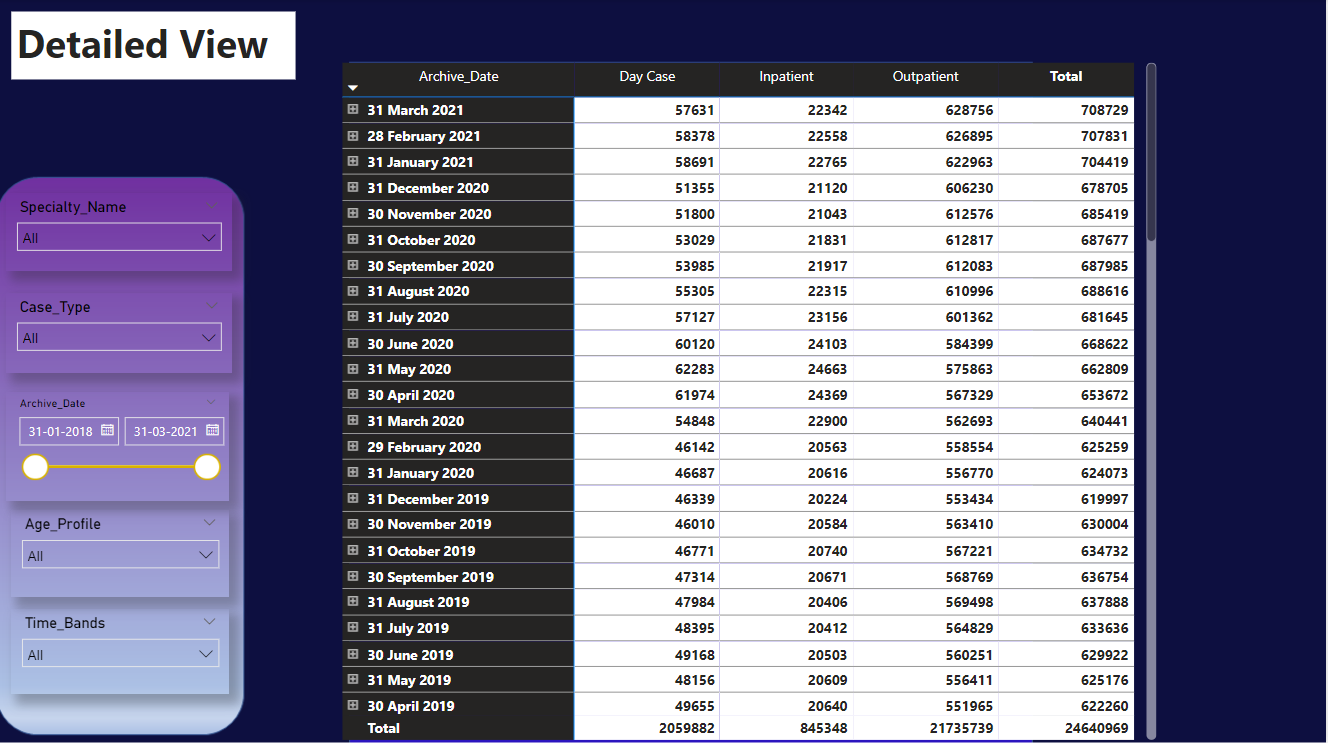

Layout of this report page (visuals, bound fields, positions):
{"tool":"powerbi","page":{"name":"Detailed_View","canvas":[1280,720],"ordinal":1},"visuals":[{"type":"slicer","fields":{"Values":["All_Data.Case_Type"]},"box":[6.2,283.1,217.8,77.5],"z":0},{"type":"slicer","fields":{"Values":["All_Data.Specialty_Name"]},"box":[6.2,187.1,217.8,75.1],"z":1000},{"type":"slicer","fields":{"Values":["All_Data.Archive_Date"]},"box":[6.2,379.1,215.4,105.8],"z":2000},{"type":"slicer","fields":{"Values":["All_Data.Age_Profile"]},"box":[11.1,493.5,210.5,83.7],"z":3000},{"type":"slicer","fields":{"Values":["All_Data.Time_Bands"]},"box":[11.1,588.3,210.5,82.5],"z":4000},{"type":"pivotTable","fields":{"Rows":["All_Data.Archive_Date","All_Data.Specialty_Name","All_Data.Age_Profile","All_Data.Time_Bands"],"Columns":["All_Data.Case_Type"],"Values":["Sum(All_Data.Total)"]},"box":[326.2,56.6,795.1,663.4],"z":5000},{"type":"textbox","box":[11.1,12.3,274.5,65.2],"z":6000}]}

Visuals, with their boxes in screenshot pixels (x1, y1, x2, y2), scaled from the page's 1280x720 canvas onto the 1328x743 screenshot:
slicer - All_Data.Case_Type: bbox=[6, 292, 232, 372]
slicer - All_Data.Specialty_Name: bbox=[6, 193, 232, 271]
slicer - All_Data.Archive_Date: bbox=[6, 391, 230, 500]
slicer - All_Data.Age_Profile: bbox=[12, 509, 230, 596]
slicer - All_Data.Time_Bands: bbox=[12, 607, 230, 692]
pivotTable - All_Data.Archive_Date x All_Data.Specialty_Name: bbox=[338, 58, 1163, 742]
textbox: bbox=[12, 13, 296, 80]
